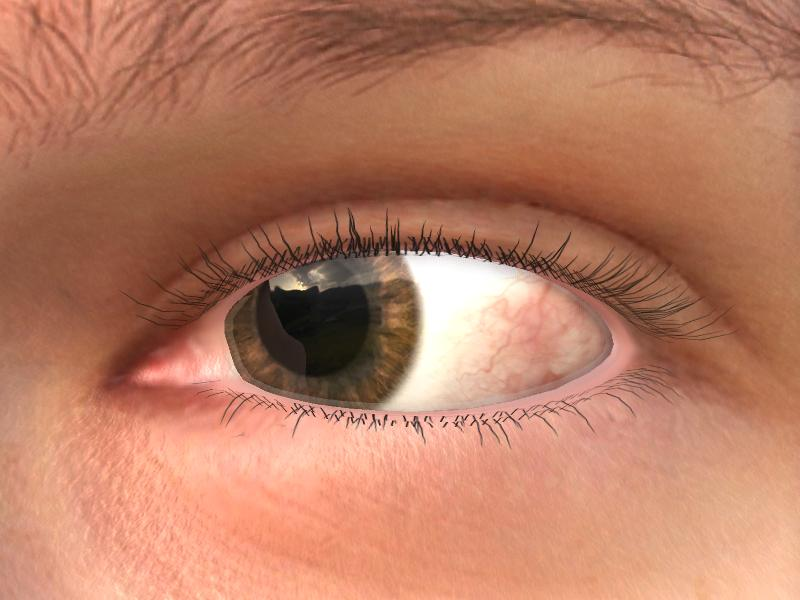eye: (225, 248, 423, 413)
